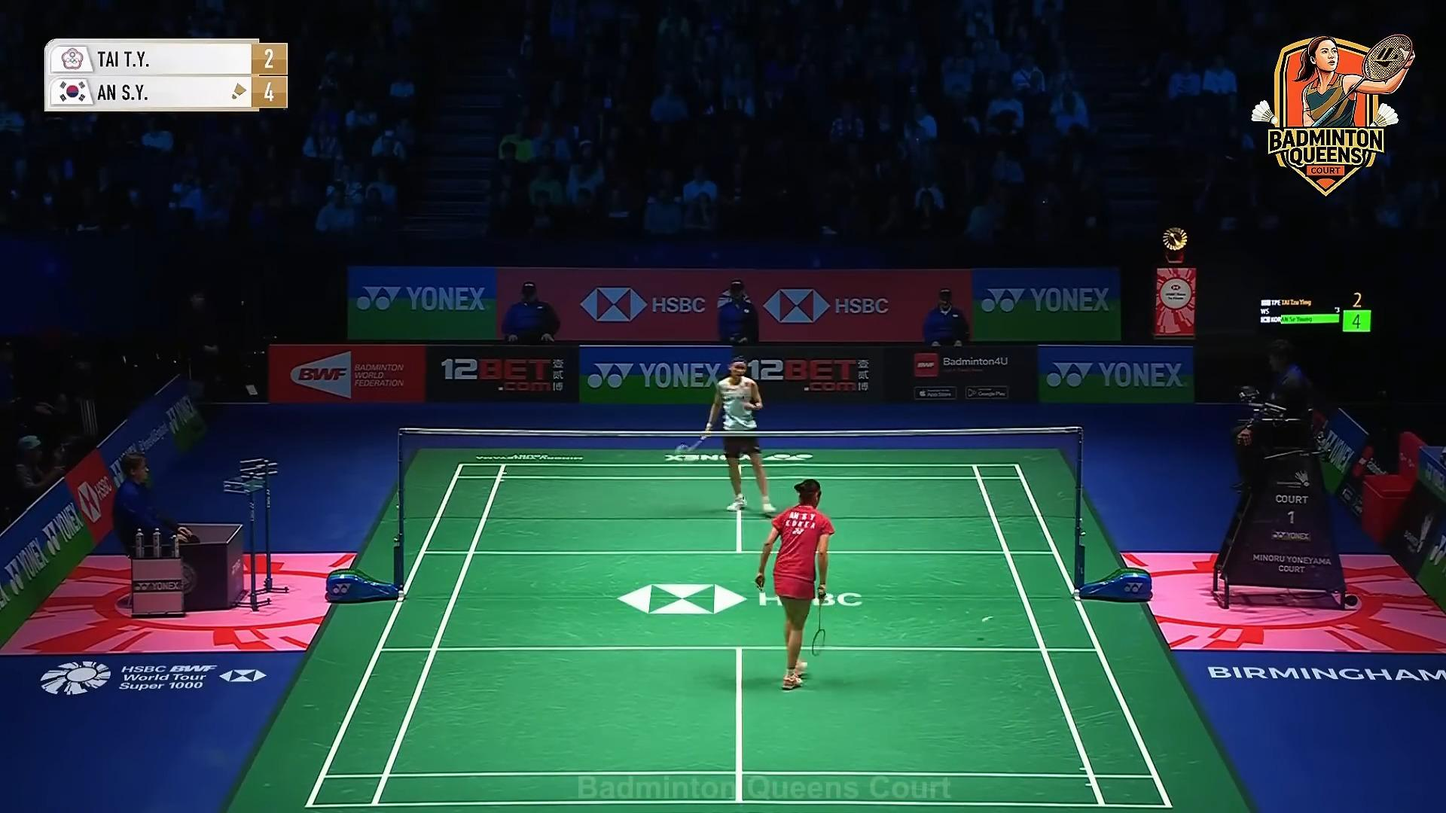shuttlecock: (981, 614, 995, 625)
